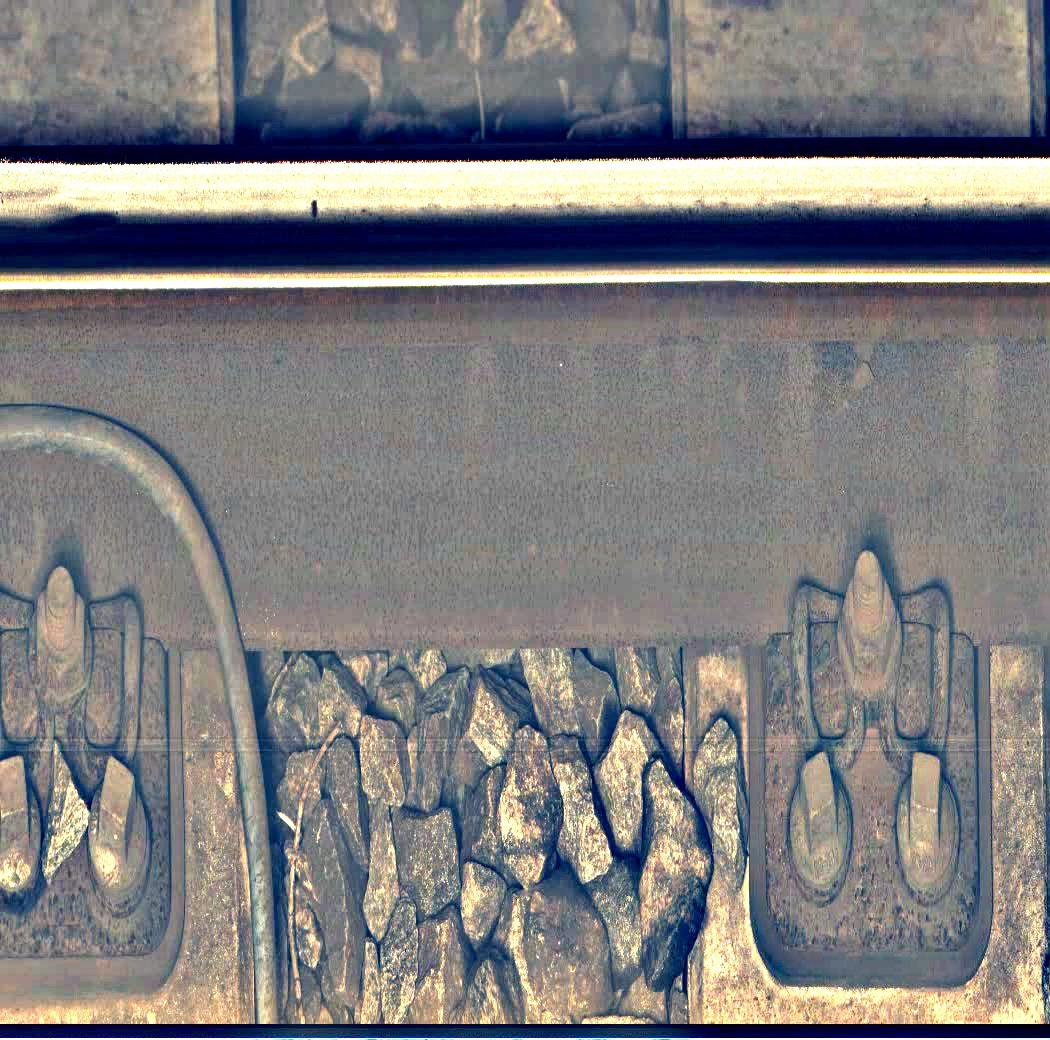cable: (1, 350, 296, 1024)
tension_clamp: (739, 527, 1013, 1011), (1, 551, 206, 1010)
